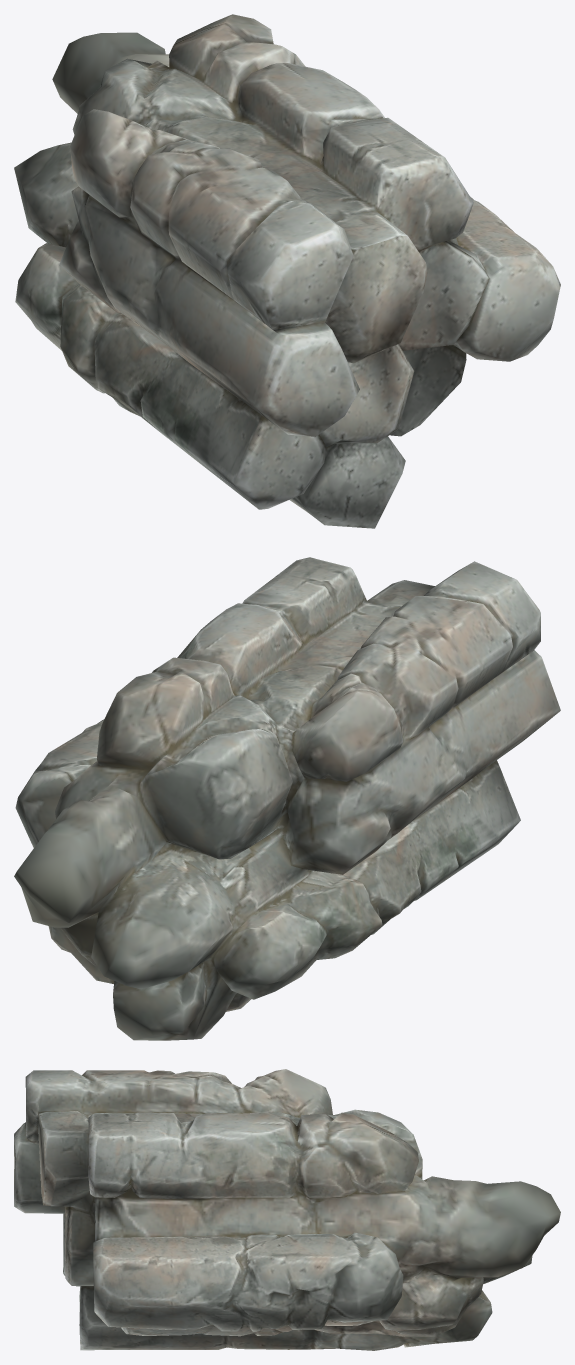
File: VD_Basalt_Group_C.fbx
The picture shows the model from 3 angles, top to bottom: view 1: azimuth 30°, elevation 25°; view 2: azimuth 150°, elevation 25°; view 3: azimuth 270°, elevation 25°; orthographic projection. The views are drawn at different scales.
Parts seen in each view (by area): view 1: VD_Basalt_Group_C; view 2: VD_Basalt_Group_C; view 3: VD_Basalt_Group_C.
Boxes of the visible parts, <box> form: VD_Basalt_Group_C: <box>14,14,560,528</box>; VD_Basalt_Group_C: <box>14,557,560,1040</box>; VD_Basalt_Group_C: <box>14,1069,560,1350</box>.
Size of the model in its own units: 333 by 298 by 594.
